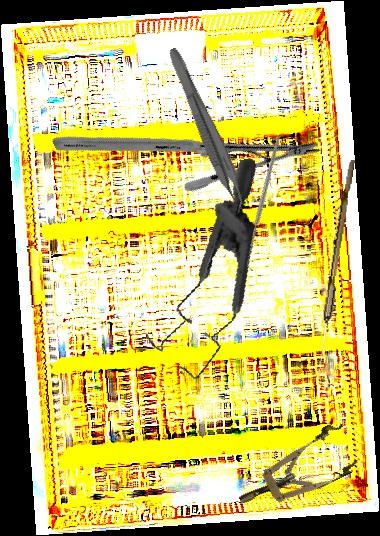Hook Surgical: (197, 134, 333, 272)
Needle Holder: (51, 30, 322, 262)
Speculum: (114, 157, 297, 388), (227, 419, 364, 524)
Surgical Spoon: (314, 158, 355, 380)
Tissue Forceps: (157, 45, 254, 217)
